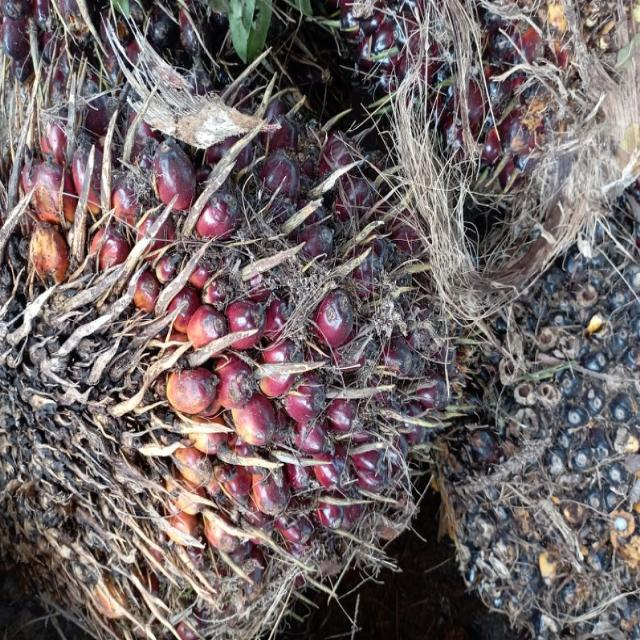fraksi 1: (0, 16, 461, 640)
